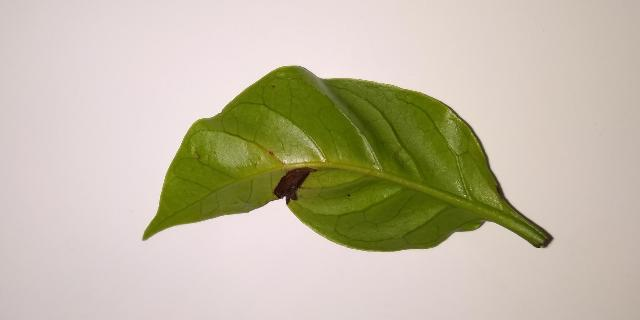rust: (274, 168, 315, 202)
